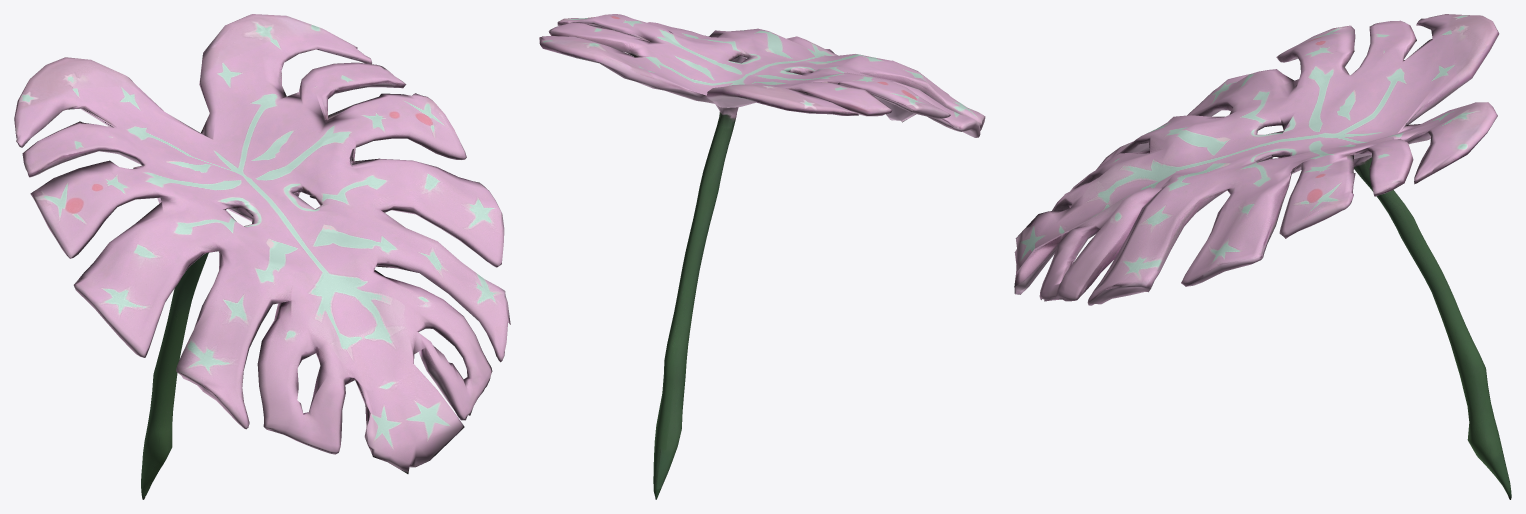
Rendered from mon_rose_pink_v2.glb.
The picture shows the model from 3 angles, left to right: view 1: azimuth 30°, elevation 25°; view 2: azimuth 150°, elevation 25°; view 3: azimuth 270°, elevation 25°; orthographic projection. The views are drawn at different scales.
Parts seen in each view (by area): view 1: world; view 2: world; view 3: world.
Boxes of the visible parts, x1,y1,x2,y2 form: world: [14, 14, 510, 499]; world: [539, 14, 985, 499]; world: [1014, 14, 1511, 499].
Size of the model in its own units: 1.76 by 1.92 by 2.
1 material, 1 textured.
